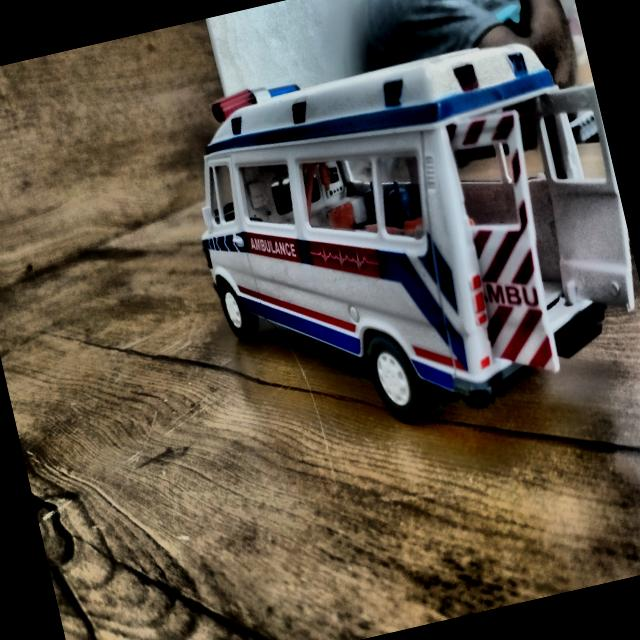Ambulance: (166, 1, 640, 504)
